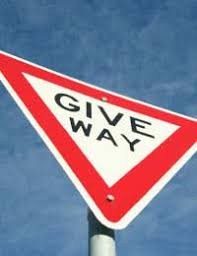giveway: (1, 46, 197, 233), (34, 90, 181, 162), (45, 108, 191, 160)
